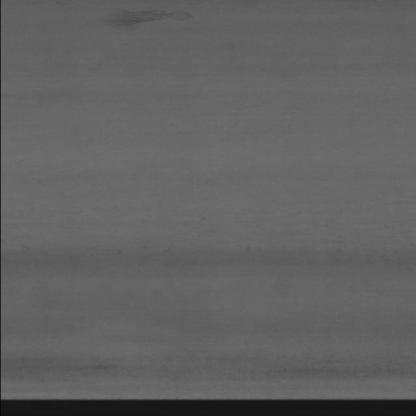water_spot: (83, 7, 197, 40)
